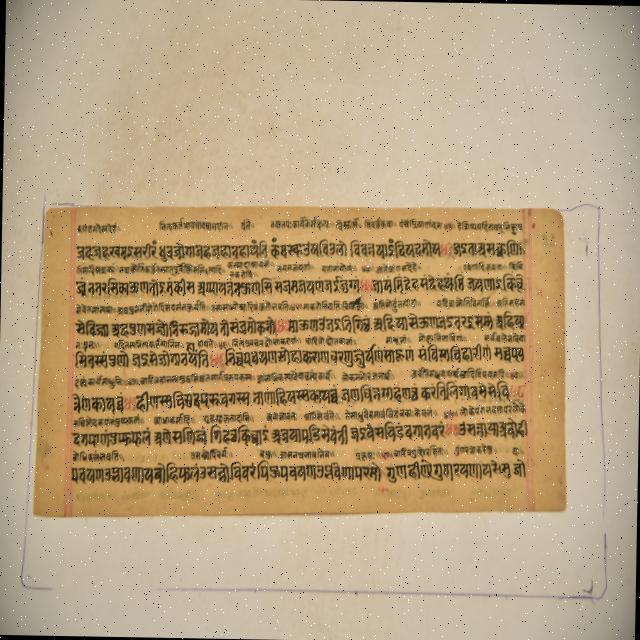text_paragraph: (33, 205, 566, 509)
